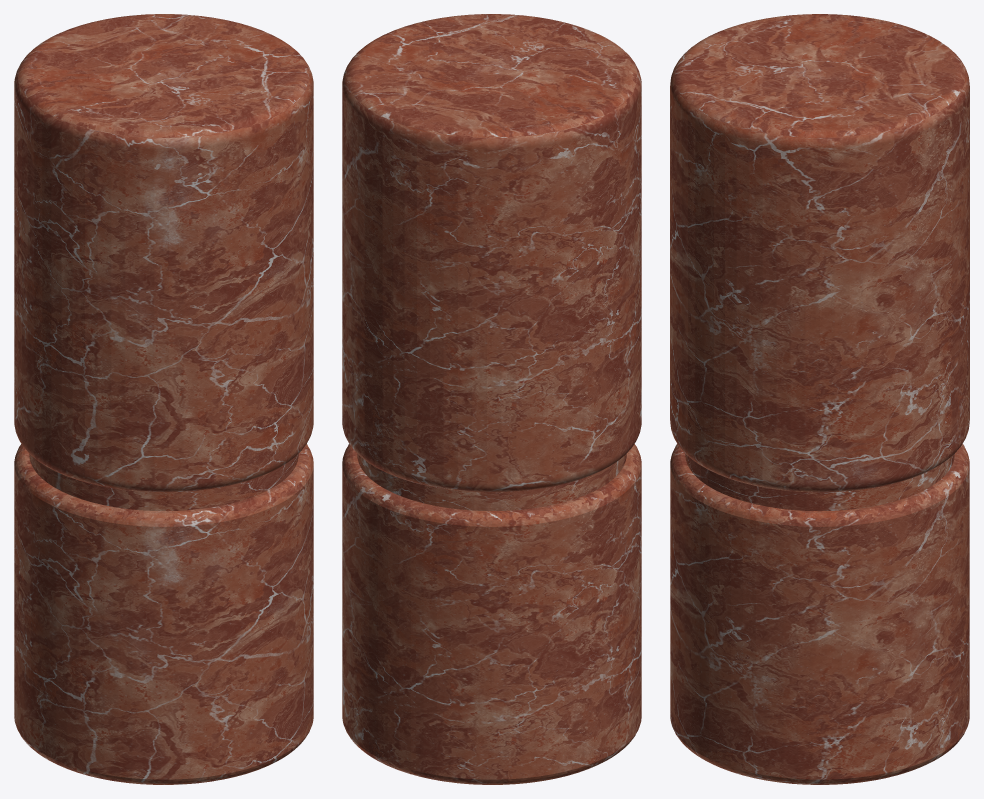
Rendered from tallDarkFlatCylinder.glb.
The picture shows the model from 3 angles, left to right: view 1: azimuth 30°, elevation 25°; view 2: azimuth 150°, elevation 25°; view 3: azimuth 270°, elevation 25°; orthographic projection.
Visible parts, largest first — view 1: tallDarkFlatCylinder; view 2: tallDarkFlatCylinder; view 3: tallDarkFlatCylinder.
Part boxes in pixels (x1,y1,x2,y2): tallDarkFlatCylinder: [14, 14, 313, 784]; tallDarkFlatCylinder: [342, 14, 641, 784]; tallDarkFlatCylinder: [670, 14, 969, 784].
Bounding box in the file's own units: 2 × 4.81 × 2.
3 materials, 3 textured.
